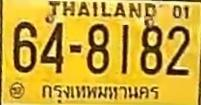1: (121, 24, 128, 73)
2: (166, 24, 189, 74)
4: (40, 21, 63, 72)
6: (13, 21, 36, 72)
8: (86, 23, 108, 73), (140, 24, 161, 74)
BKK: (39, 81, 163, 104)
